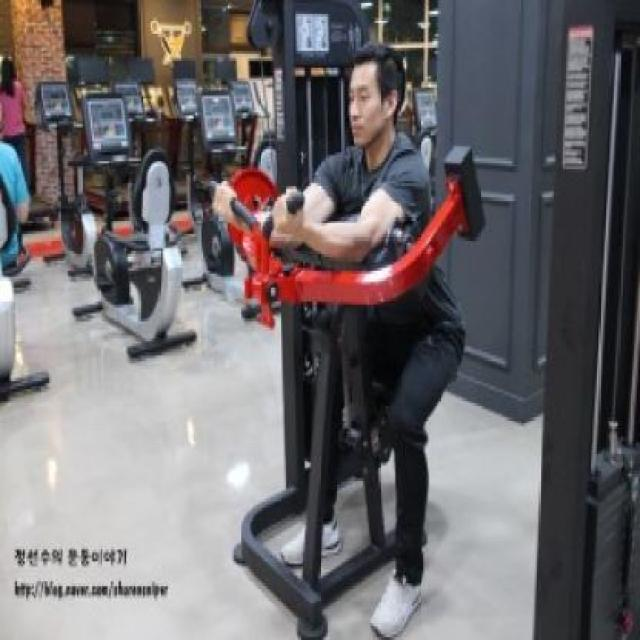arm curl machine: (205, 143, 488, 640)
